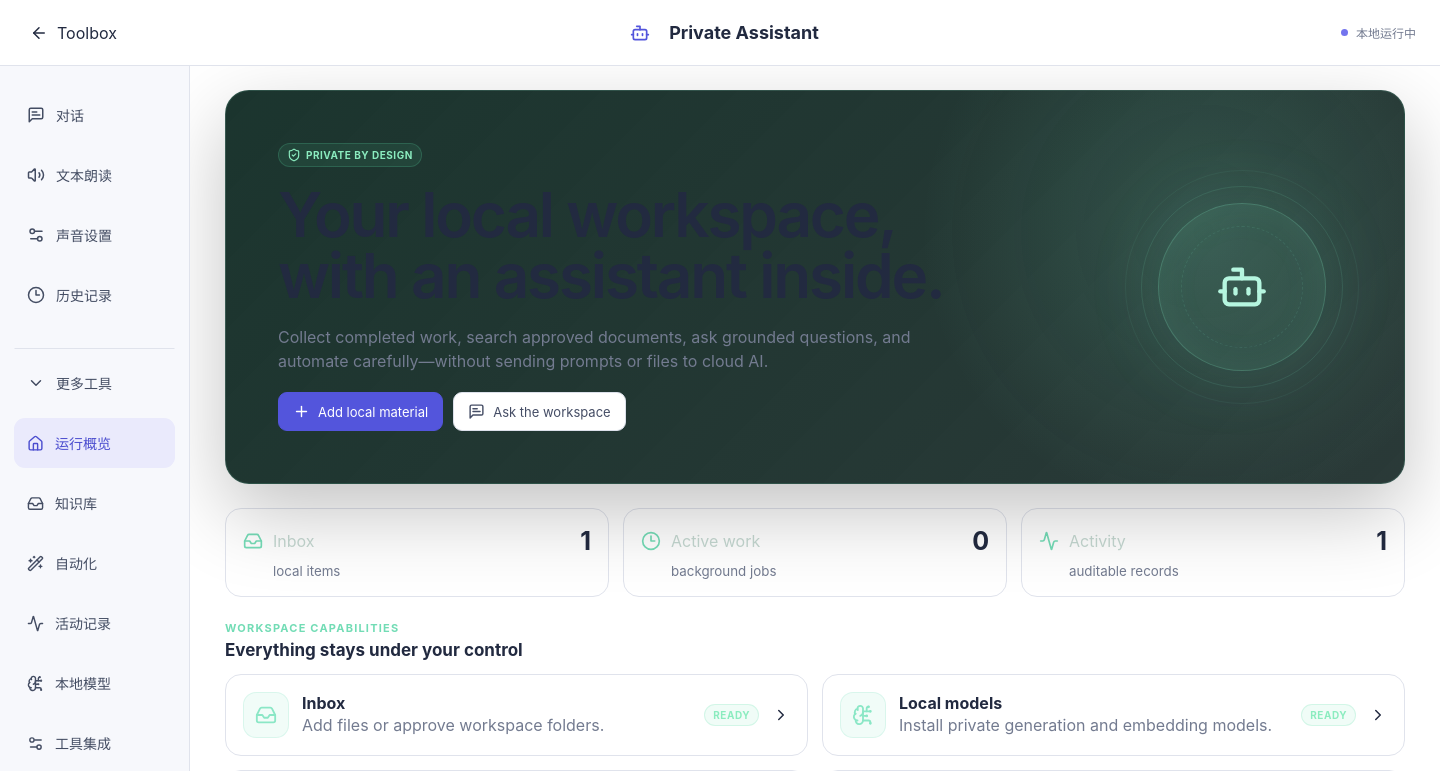
Test: Private Assistant workspace › manages and deletes one saved conversation without clearing the others
Click the button "历史记录" at [94, 295], box x1=14 y1=270 x2=175 y2=320
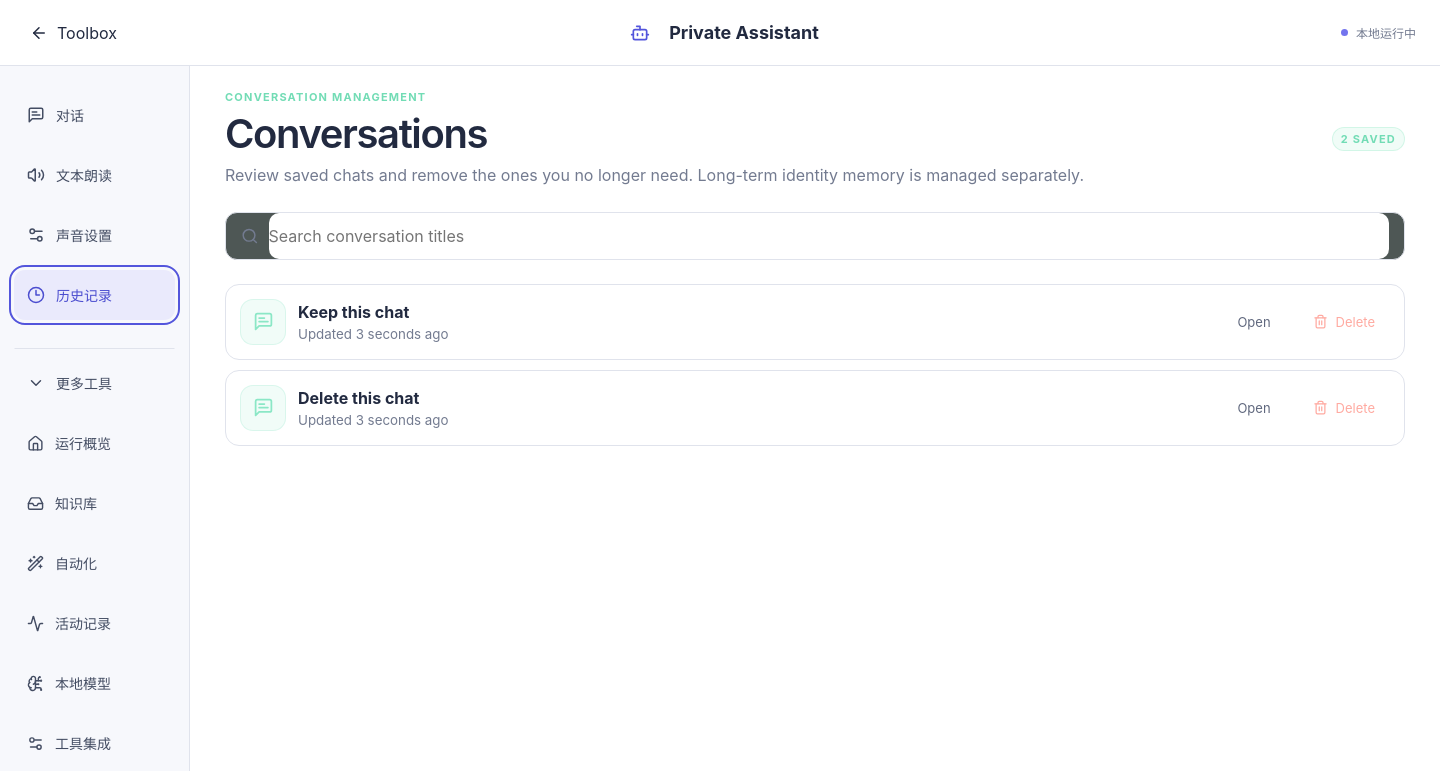
Expected: the heading "Conversations" is shown, x1=225 y1=109 x2=487 y2=158
Click the button with aria-label "Delete Delete this chat" at [1344, 408], box x1=1298 y1=389 x2=1390 y2=427
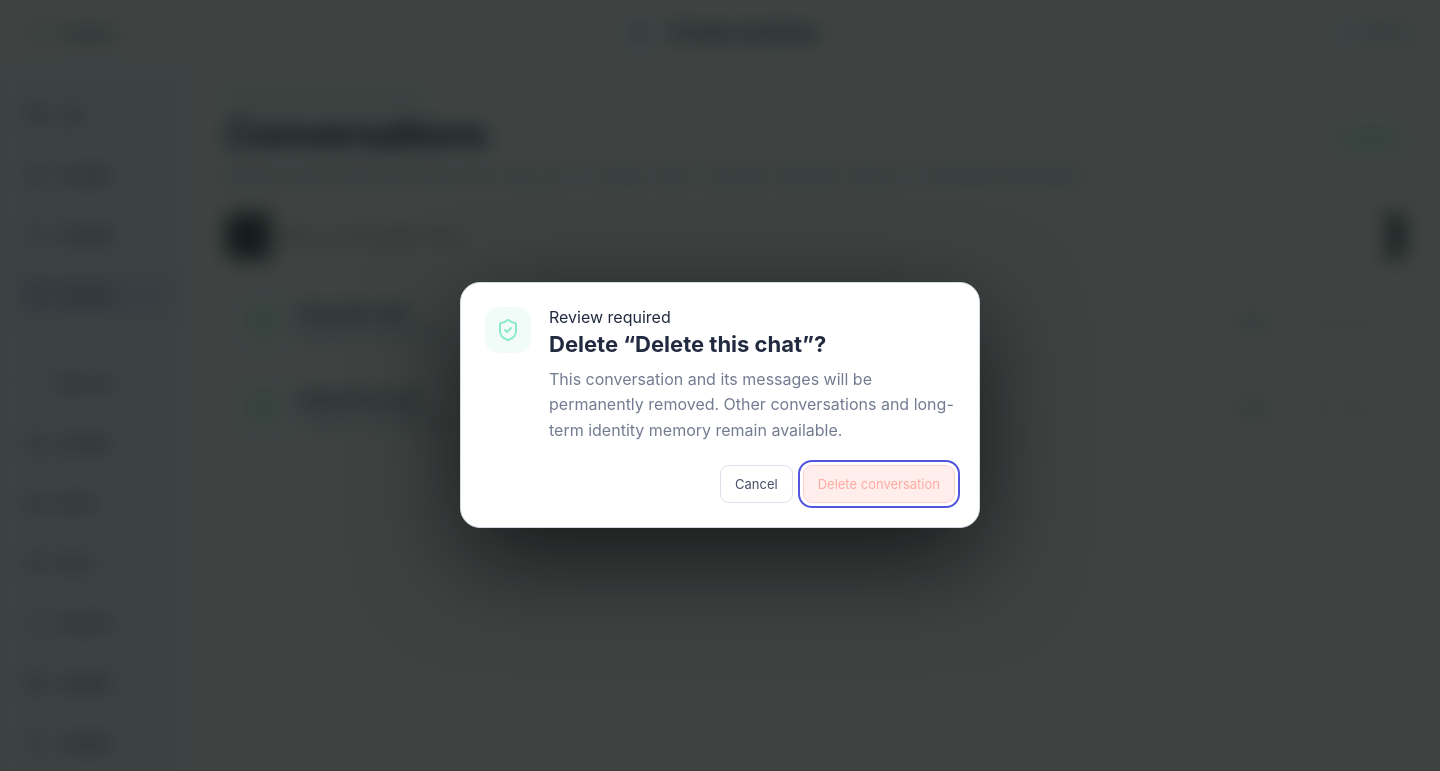
Click the button "Delete conversation" at [879, 484], box x1=803 y1=465 x2=955 y2=503
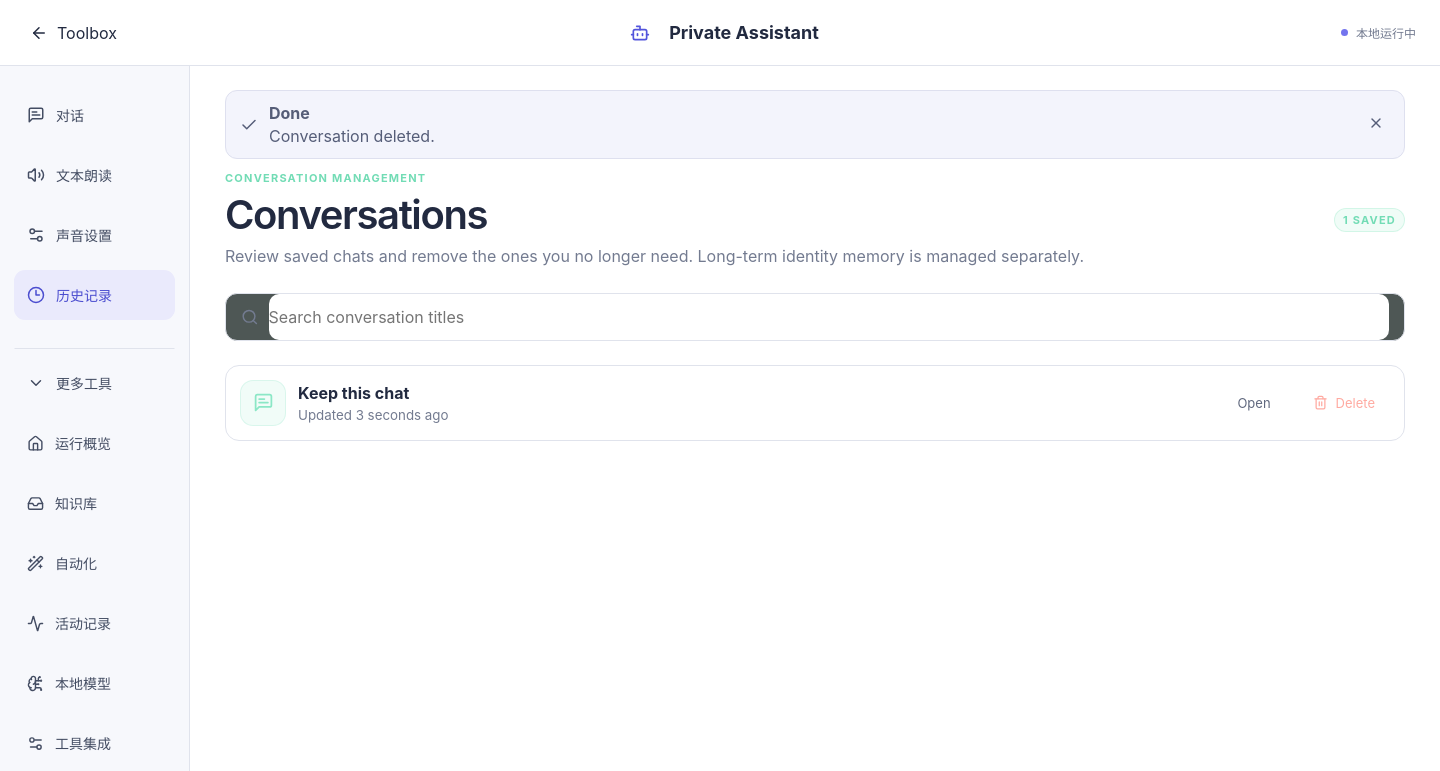
Expected: the text "Keep this chat" is shown, x1=298 y1=383 x2=409 y2=403
Expected: the text "Delete this chat" is gone
